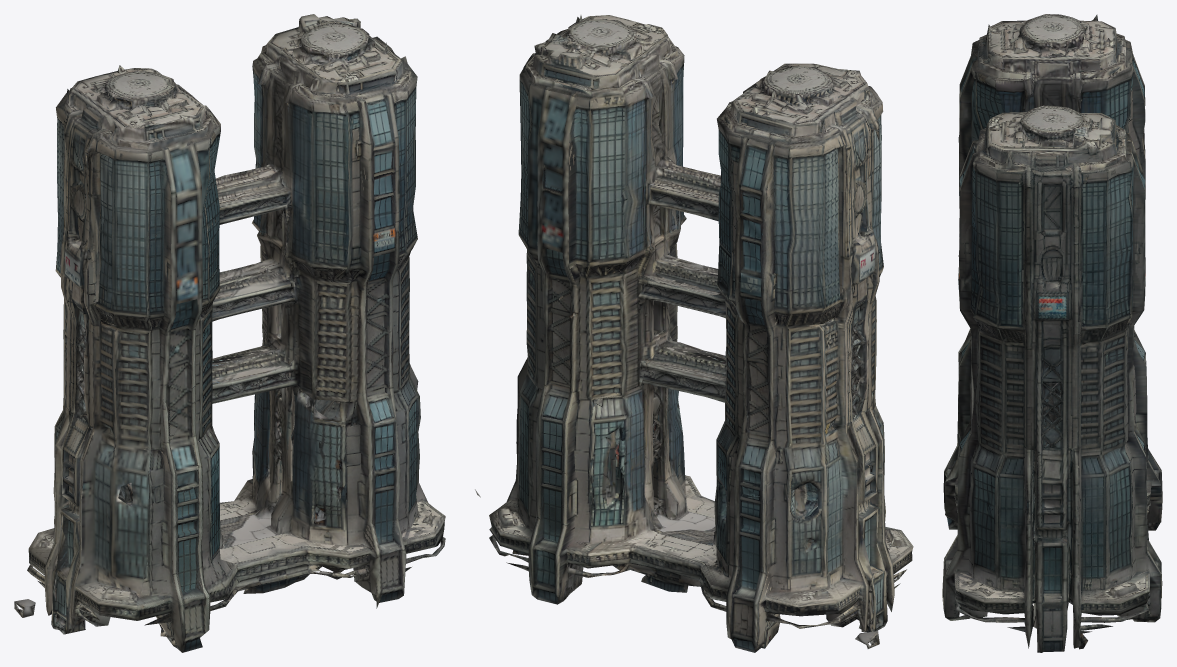
Rendered from ColonyTower_Twin.fbx.
The picture shows the model from 3 angles, left to right: view 1: azimuth 30°, elevation 25°; view 2: azimuth 150°, elevation 25°; view 3: azimuth 270°, elevation 25°; orthographic projection. The views are drawn at different scales.
Parts seen in each view (by area): view 1: texture_mapping; view 2: texture_mapping; view 3: texture_mapping.
Part boxes in pixels (x1,y1,x2,y2): texture_mapping: (14, 14, 445, 652); texture_mapping: (475, 15, 913, 652); texture_mapping: (942, 14, 1162, 652).
Size of the model in its own units: 0.7138 by 0.3804 by 0.955.
1 material, 1 textured.
